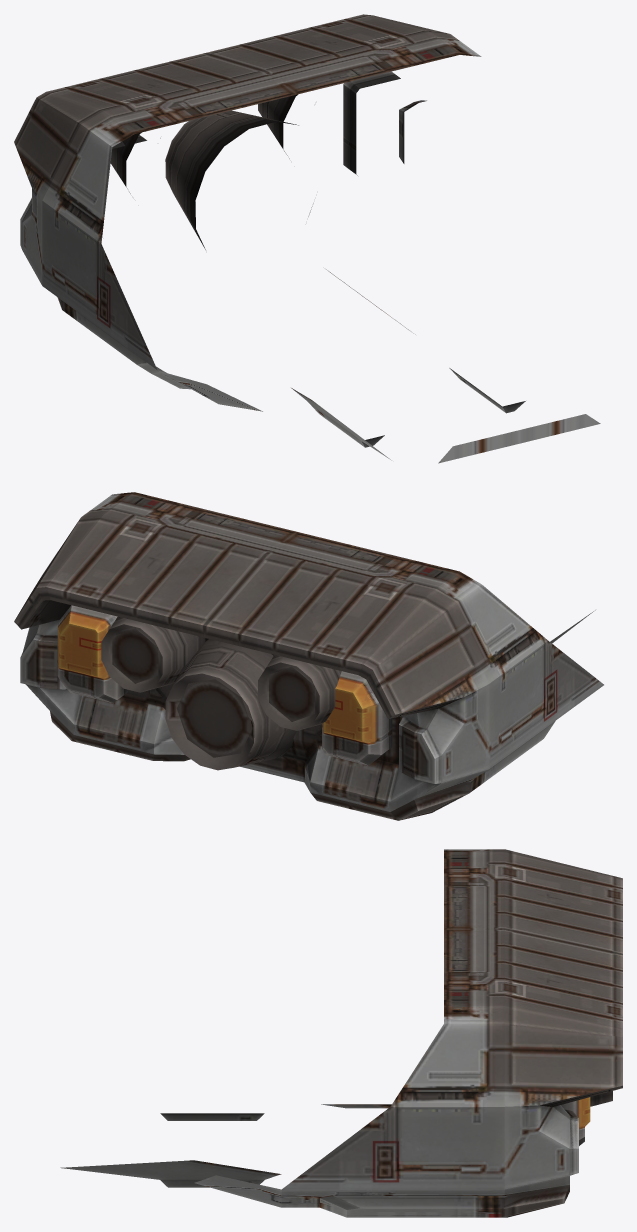
File: engine_hgn_carrier_03_ion_01_t1.glb
3 views of the same model, one above another, from view 1: azimuth 30°, elevation 25°; view 2: azimuth 150°, elevation 25°; view 3: azimuth 270°, elevation 25° (orthographic). The views are drawn at different scales.
Parts seen in each view (by area): view 1: hgn_flagship_carrier_03_ion_engine_s_LOD0; view 2: hgn_flagship_carrier_03_ion_engine_s_LOD0; view 3: hgn_flagship_carrier_03_ion_engine_s_LOD0.
Boxes of the visible parts, left/top/right/bottom form: hgn_flagship_carrier_03_ion_engine_s_LOD0: left=14, top=14, right=600, bottom=463; hgn_flagship_carrier_03_ion_engine_s_LOD0: left=14, top=492, right=603, bottom=820; hgn_flagship_carrier_03_ion_engine_s_LOD0: left=60, top=849, right=622, bottom=1217.
Bounding box in the file's own units: 1.86 × 0.9168 × 2.27.
1 material, 1 textured.
